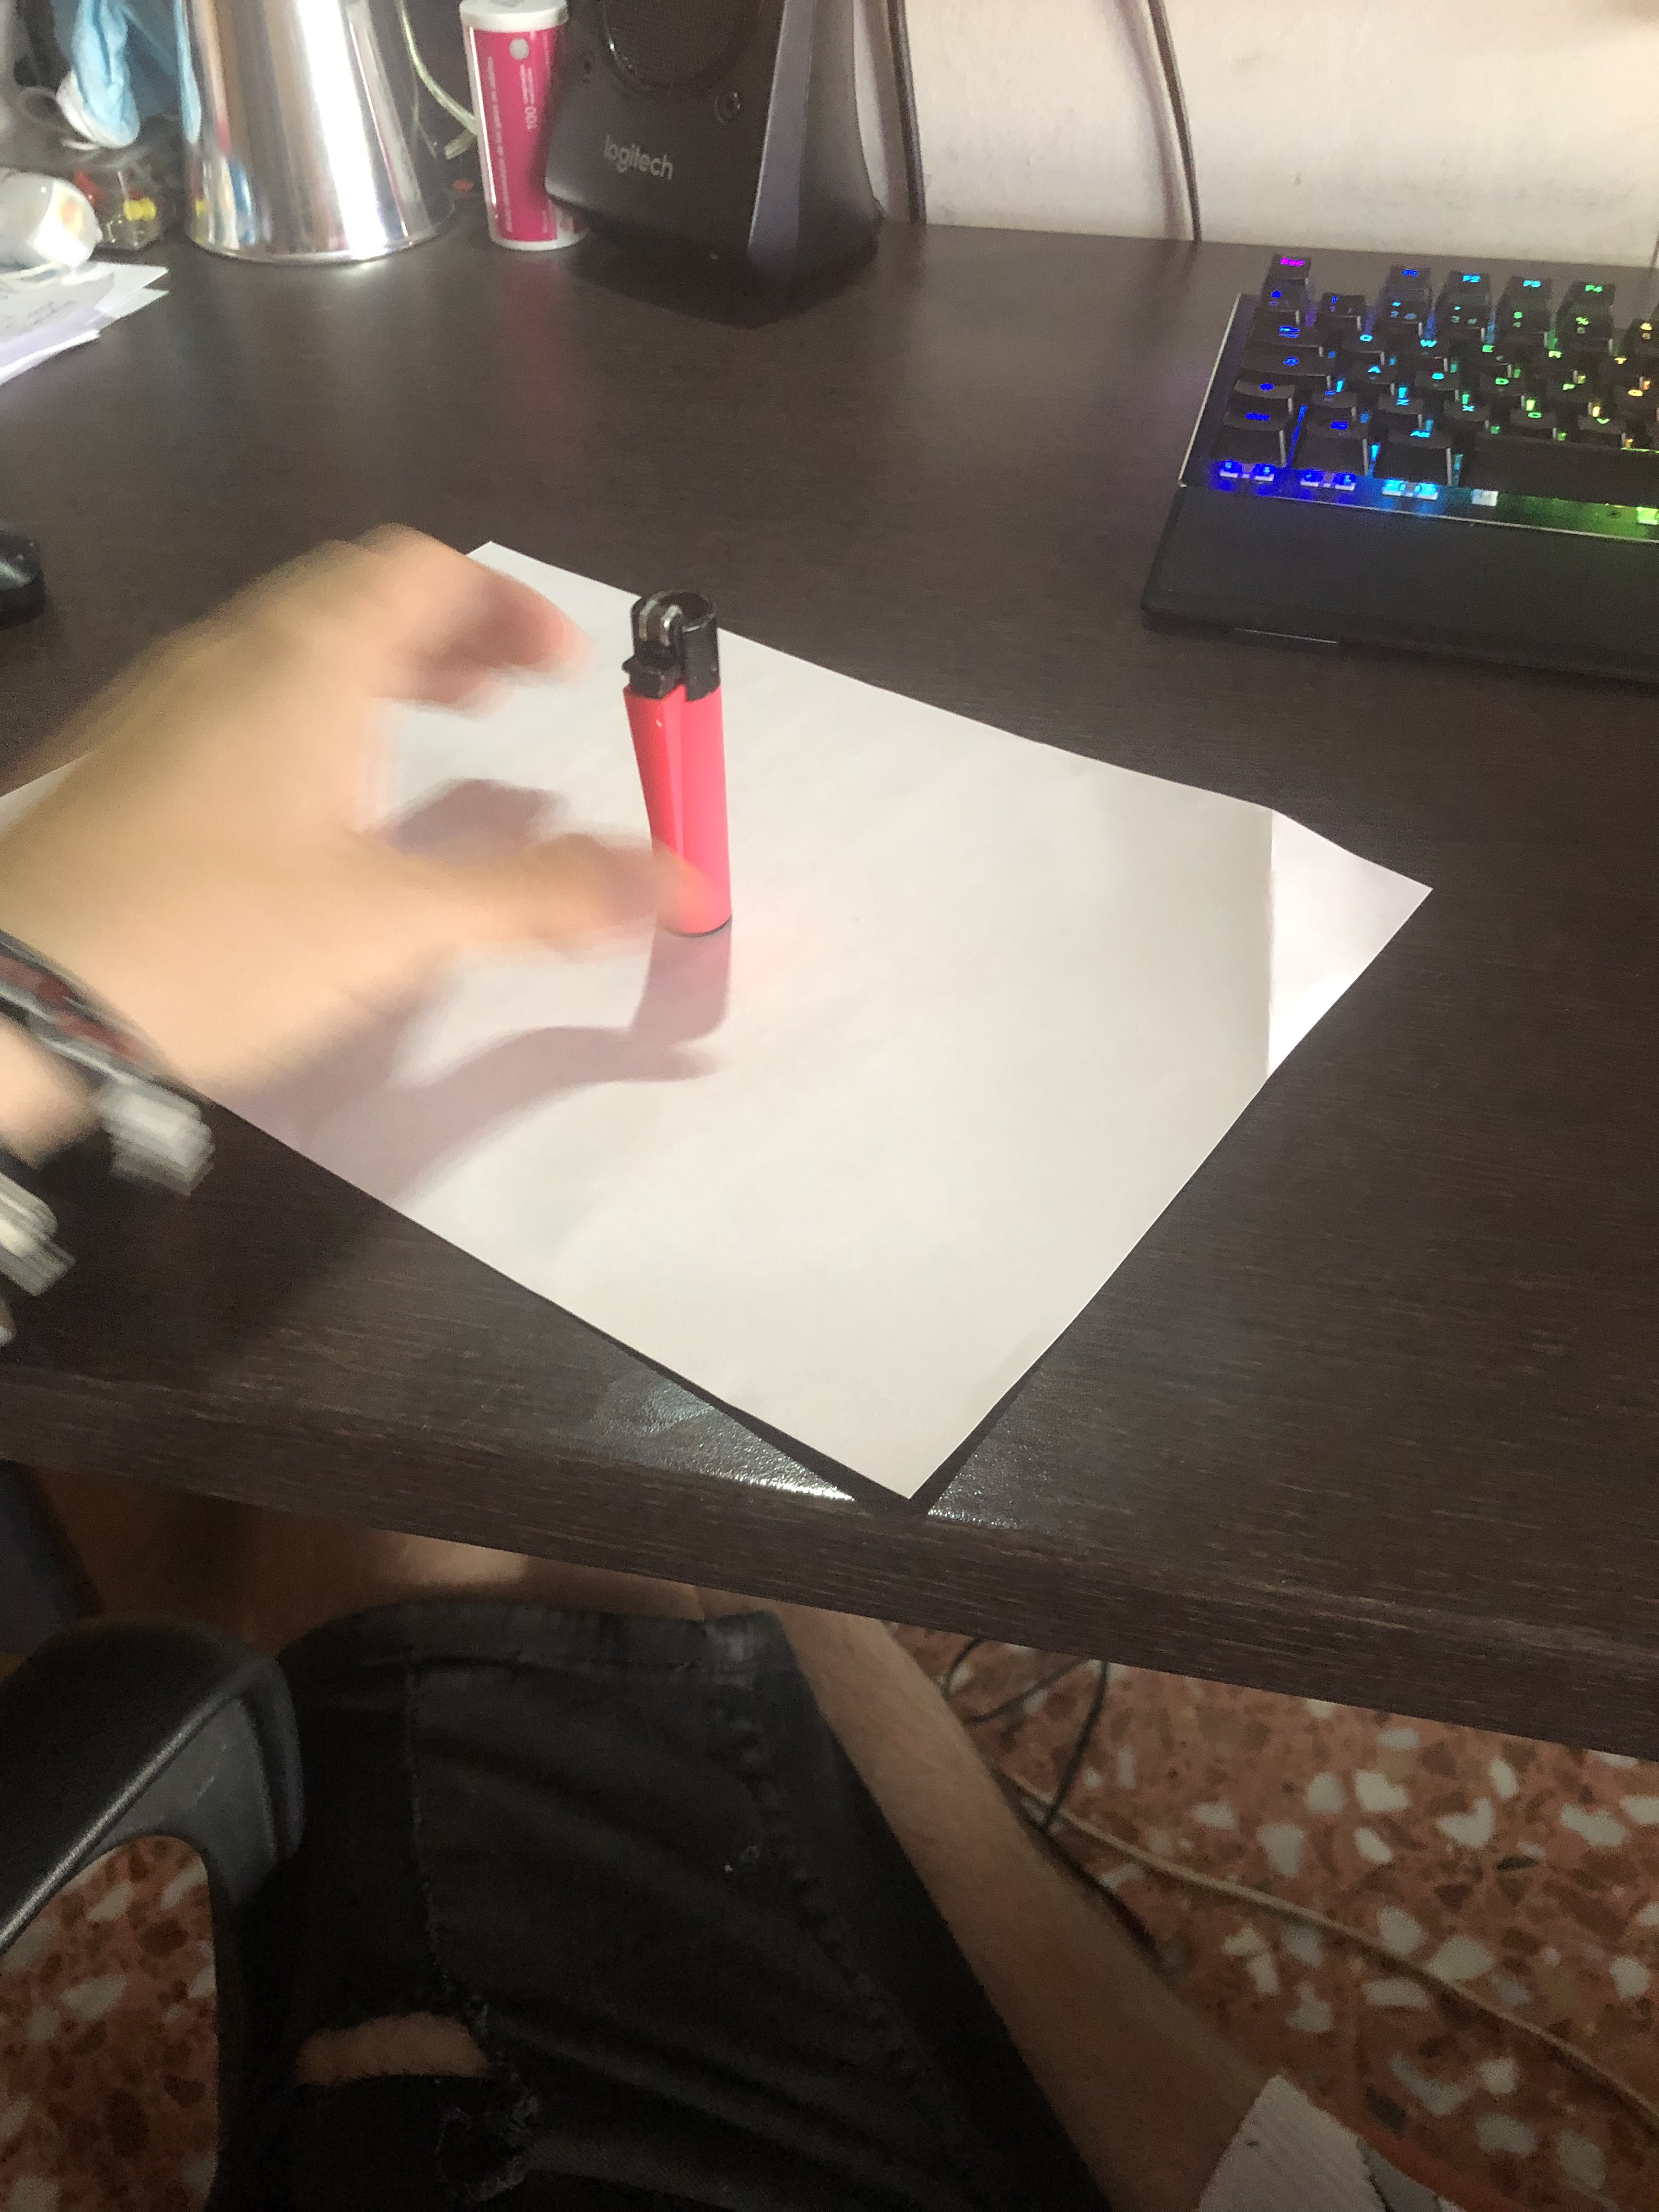Mechero: (606, 575, 781, 975)
